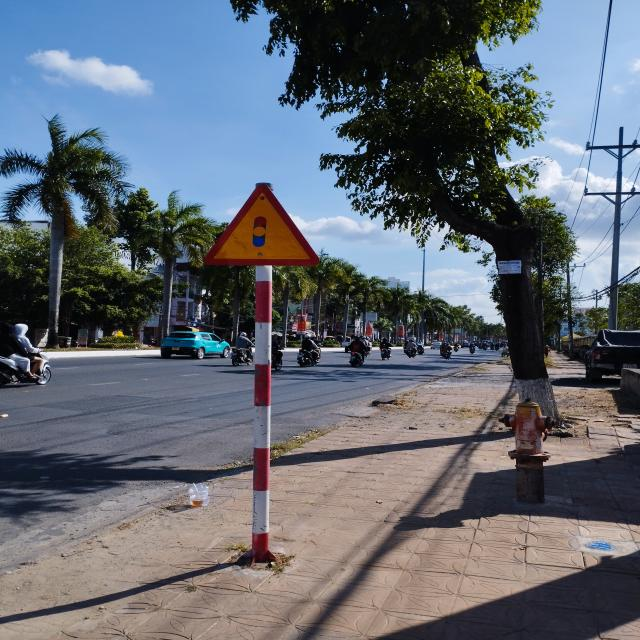Duong_Co_Go_Giam_Toc: (202, 183, 320, 267)
